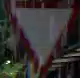Give way: (6, 0, 79, 73)
